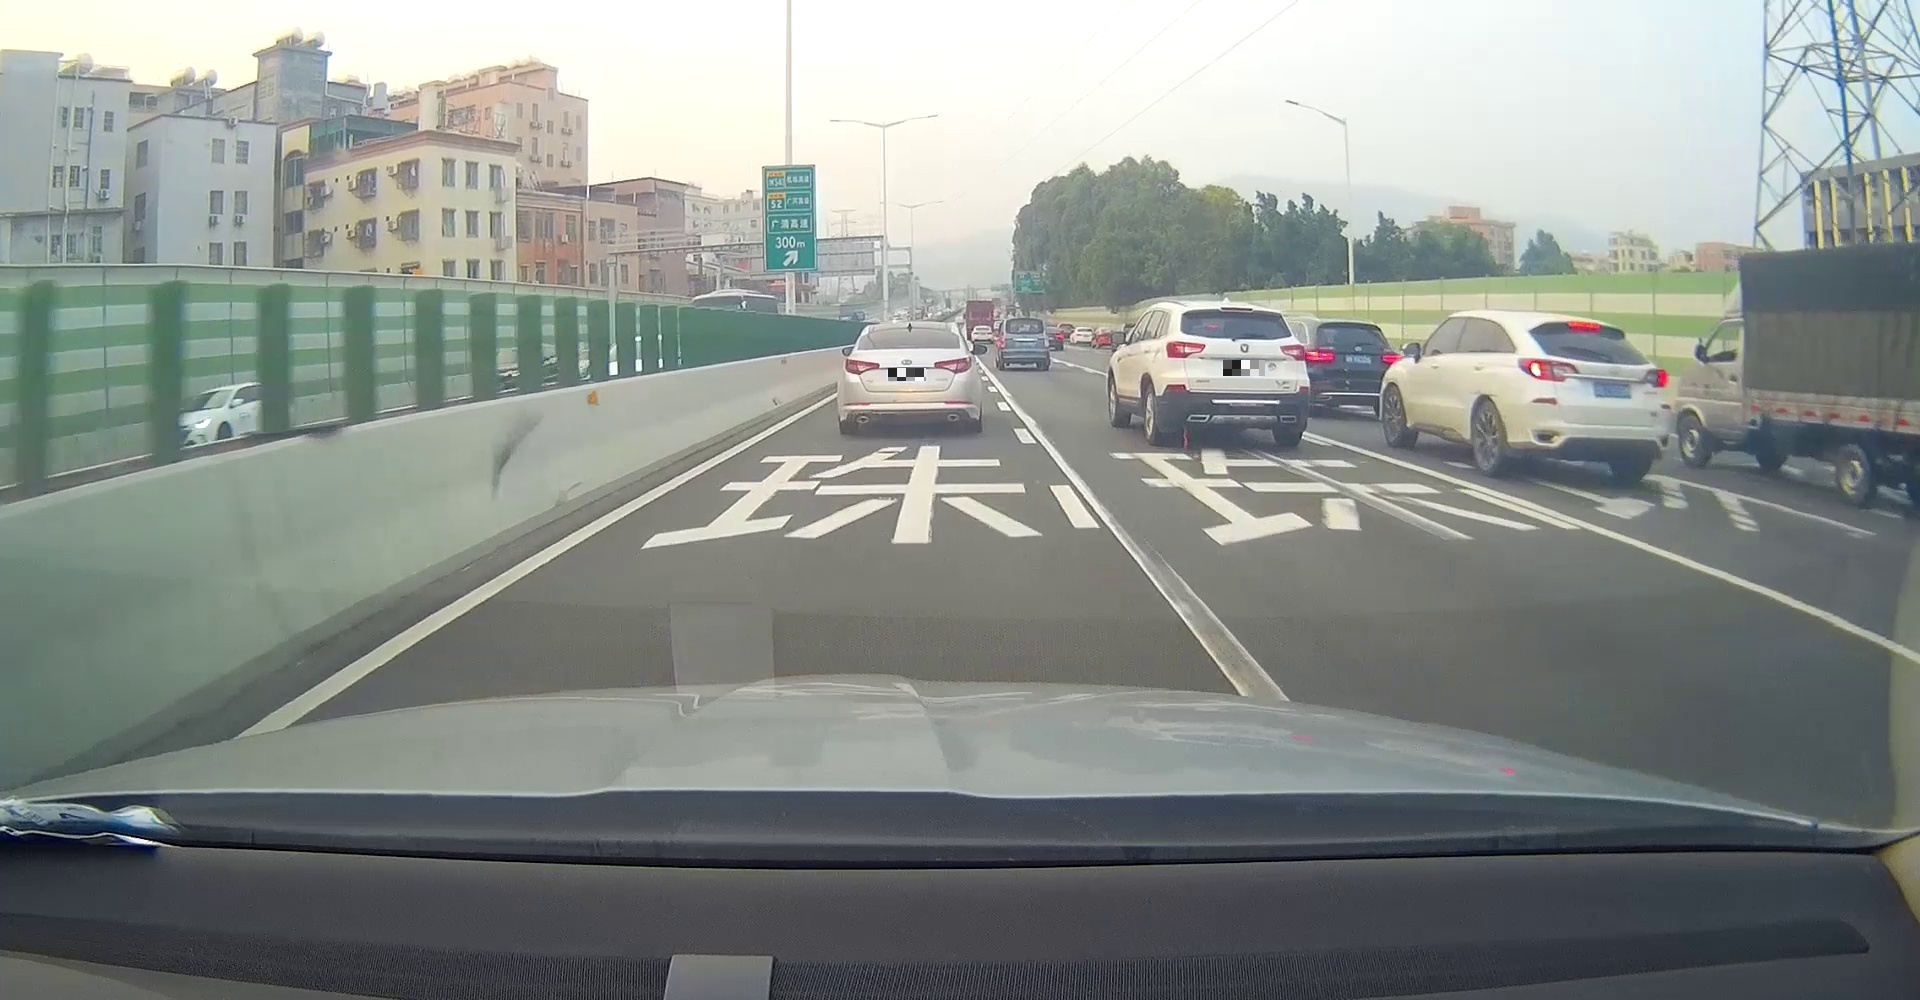L_light: (1517, 358, 1581, 382), (1164, 341, 1208, 359), (844, 358, 880, 376), (1001, 332, 1004, 348)
R_light: (935, 355, 971, 374), (1643, 368, 1669, 388), (1279, 343, 1305, 360), (1044, 331, 1049, 346)
T_light: (1568, 322, 1600, 330), (1222, 307, 1255, 312), (902, 327, 918, 332), (1020, 319, 1029, 321)
day-brake: (1514, 311, 1672, 485)
day-no: (1161, 301, 1310, 447), (841, 322, 982, 434), (998, 316, 1050, 371)
plate_1: (888, 368, 926, 381)
plate_2: (1223, 360, 1265, 376)
